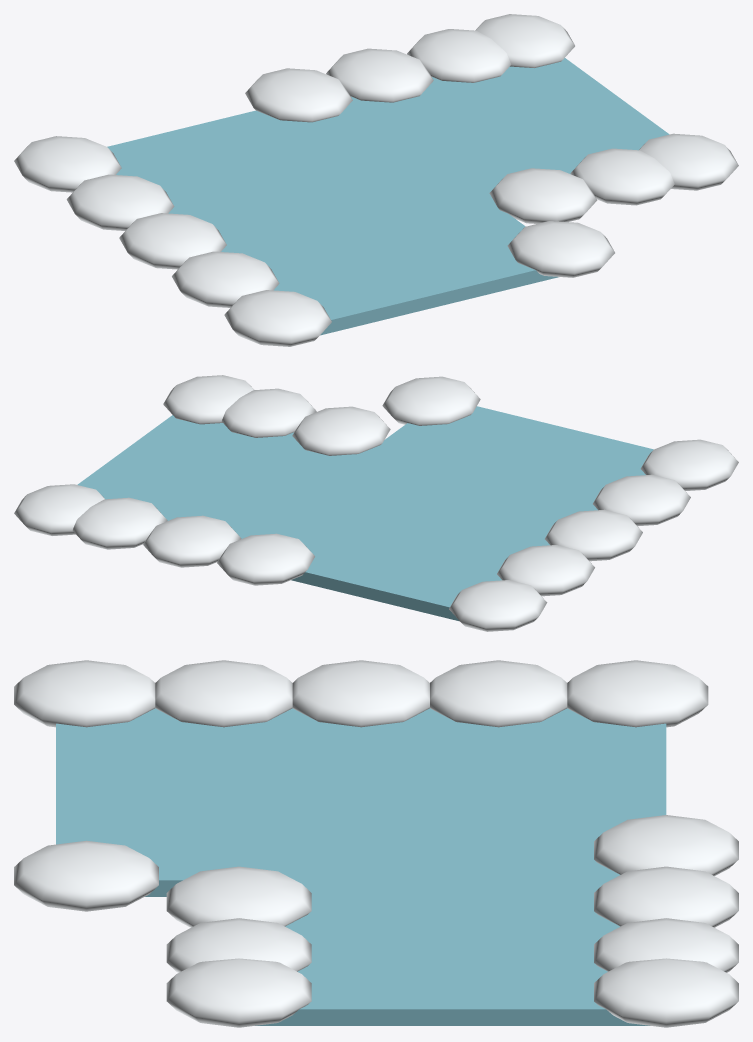
Rendered from alpine-snow-village-frozen-stream-bend-d1536a04__19798.glb.
3 views of the same model, one above another, from view 1: azimuth 30°, elevation 25°; view 2: azimuth 150°, elevation 25°; view 3: azimuth 270°, elevation 25° (orthographic). The views are drawn at different scales.
Visible parts, largest first — view 1: frozen-stream-bend-ice, frozen-stream-bend-snow; view 2: frozen-stream-bend-ice, frozen-stream-bend-snow; view 3: frozen-stream-bend-ice, frozen-stream-bend-snow.
Boxes of the visible parts, x1,y1,x2,y2 form: frozen-stream-bend-ice: (107, 58, 669, 335); frozen-stream-bend-snow: (14, 14, 738, 346); frozen-stream-bend-ice: (77, 406, 653, 621); frozen-stream-bend-snow: (14, 375, 738, 631); frozen-stream-bend-ice: (56, 708, 666, 1025); frozen-stream-bend-snow: (14, 660, 738, 1027).
Size of the model in its own units: 5.5 by 0.3001 by 4.75.
